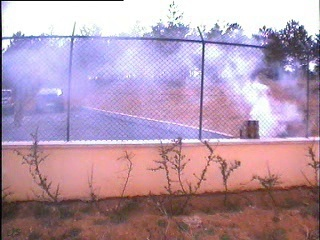smoke: (124, 29, 306, 141)
